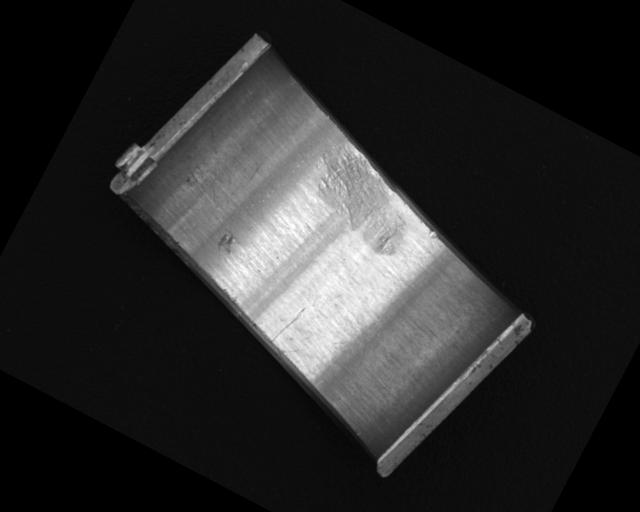bruise: (213, 229, 238, 257), (425, 227, 439, 241)
nick: (268, 299, 308, 351)
scratch: (292, 136, 433, 262)
